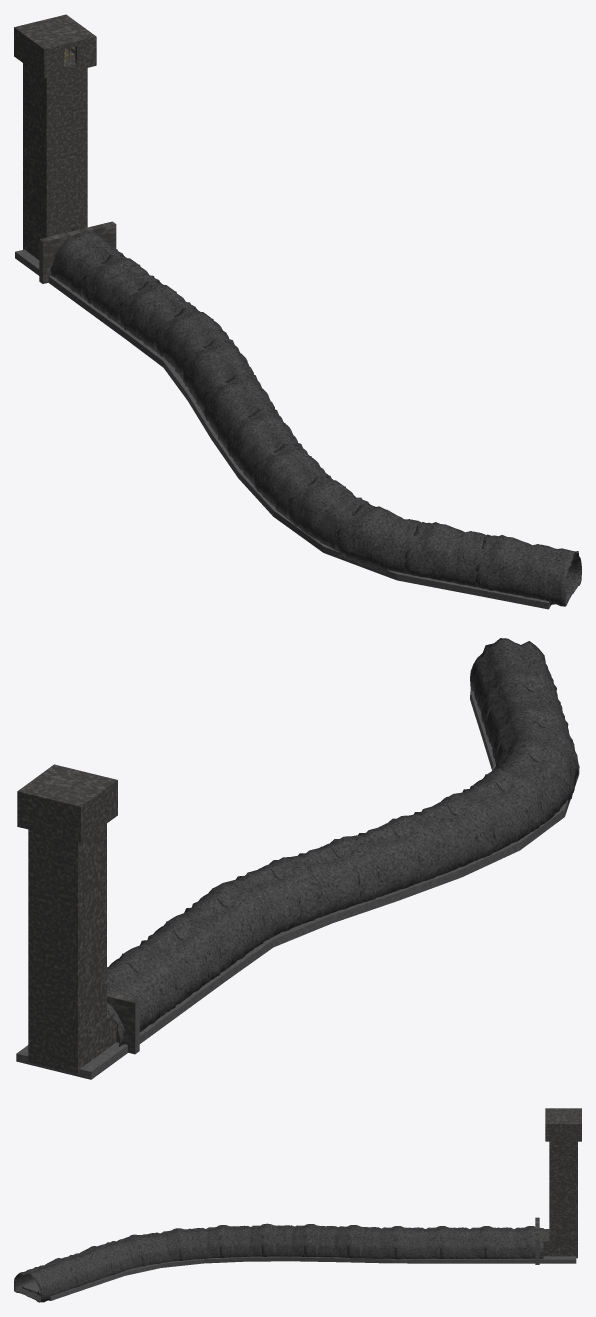
Rendered from elefavorAndCave.fbx.
3 renders of one model, top to bottom at view 1: azimuth 30°, elevation 25°; view 2: azimuth 150°, elevation 25°; view 3: azimuth 270°, elevation 25°, orthographic. The views are drawn at different scales.
Visible parts, largest first — view 1: Cylinder.038, Walls.002, Cube.076; view 2: Cylinder.038, Walls.002, Cube.076; view 3: Cylinder.038, Walls.002, Cube.076.
Part boxes in pixels (x1,y1,x2,y2): Cylinder.038: (50,228,581,606); Walls.002: (14,14,96,259); Cube.076: (15,221,550,609); Cylinder.038: (107,638,578,1046); Walls.002: (17,764,117,1074); Cube.076: (16,691,579,1079); Cylinder.038: (14,1223,543,1302); Walls.002: (540,1108,581,1258); Cube.076: (22,1217,576,1300).
Size of the model in its own units: 56.57 by 81.08 by 261.
